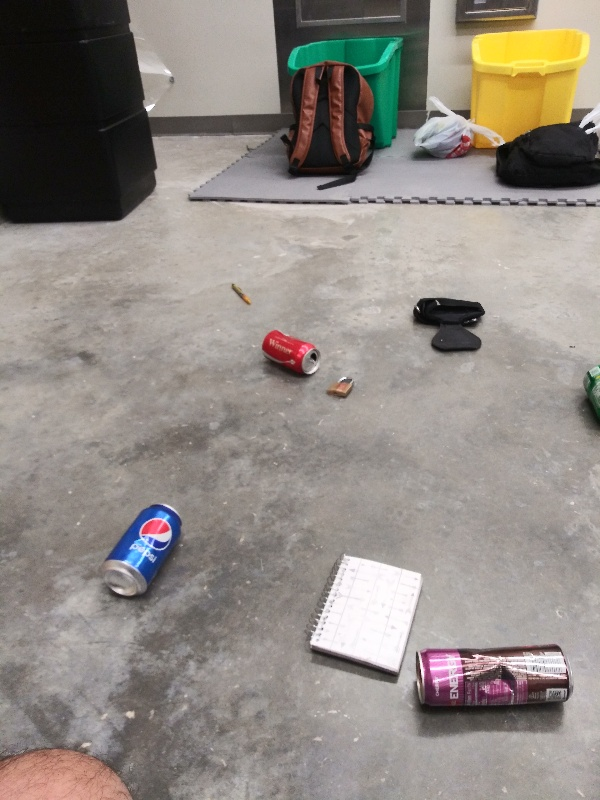can: (410, 641, 579, 721), (97, 501, 195, 603), (258, 329, 324, 380), (579, 355, 600, 420)
